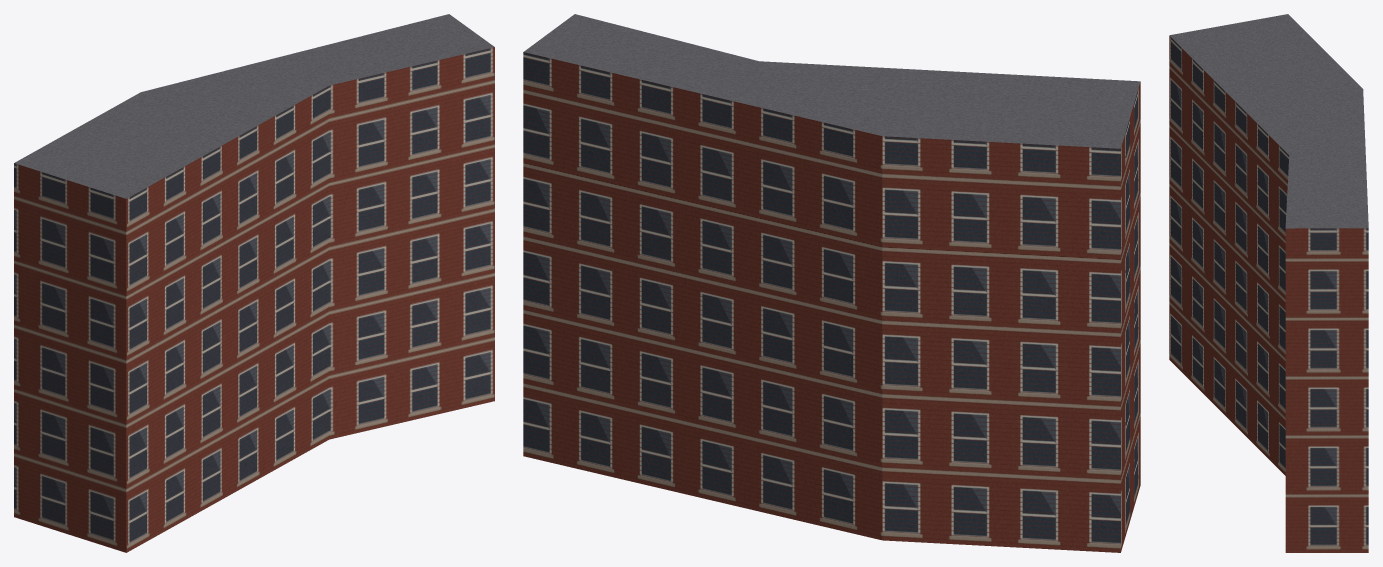
Rendered from bin1016241.glb.
The picture shows the model from 3 angles, left to right: view 1: azimuth 30°, elevation 25°; view 2: azimuth 150°, elevation 25°; view 3: azimuth 270°, elevation 25°; orthographic projection. The views are drawn at different scales.
Parts seen in each view (by area): view 1: c2, c1, c0, c7, c8, c6, c5, c11, c10, c9, c4, c3; view 2: c2, c1, c0, c5, c4, c3, c8, c7, c6, c10, c9, c11; view 3: c2, c10, c11, c9, c5, c1, c0, c8, c4, c3, c7, c6.
Part boxes in pixels (x1,y1,x2,y2): c2: [14, 102, 234, 288]; c1: [14, 228, 234, 423]; c0: [14, 363, 234, 552]; c7: [291, 155, 414, 331]; c8: [241, 38, 414, 195]; c6: [291, 290, 414, 460]; c5: [123, 67, 290, 227]; c11: [353, 14, 494, 154]; c10: [414, 136, 494, 290]; c9: [414, 271, 494, 419]; c4: [234, 196, 290, 362]; c3: [234, 331, 290, 491]; c2: [916, 70, 1140, 250]; c1: [916, 184, 1140, 404]; c0: [916, 338, 1140, 552]; c5: [765, 65, 937, 239]; c4: [765, 211, 916, 394]; c3: [765, 365, 916, 542]; c8: [635, 37, 830, 210]; c7: [635, 180, 765, 364]; c6: [635, 334, 765, 512]; c10: [523, 154, 635, 334]; c9: [523, 308, 635, 482]; c11: [523, 14, 664, 179]; c2: [1169, 14, 1351, 180]; c10: [1285, 310, 1368, 434]; c11: [1285, 185, 1368, 310]; c9: [1285, 434, 1368, 552]; c5: [1233, 78, 1364, 213]; c1: [1169, 117, 1232, 304]; c0: [1169, 241, 1232, 422]; c8: [1266, 132, 1366, 232]; c4: [1233, 181, 1266, 337]; c3: [1233, 305, 1266, 456]; c7: [1266, 215, 1285, 356]; c6: [1266, 339, 1285, 475].
Size of the model in its own units: 27.32 by 19.27 by 10.74.
Materials: 3 (3 with a texture image).
